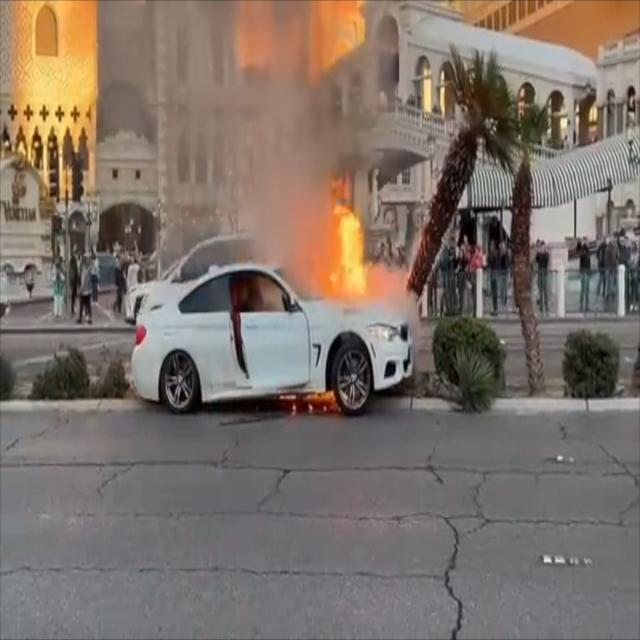fire: (312, 164, 379, 308)
